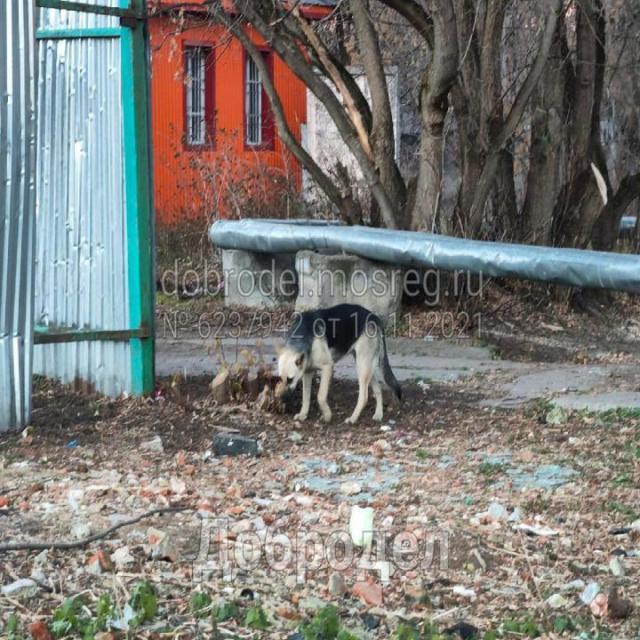dog: (277, 303, 403, 425)
